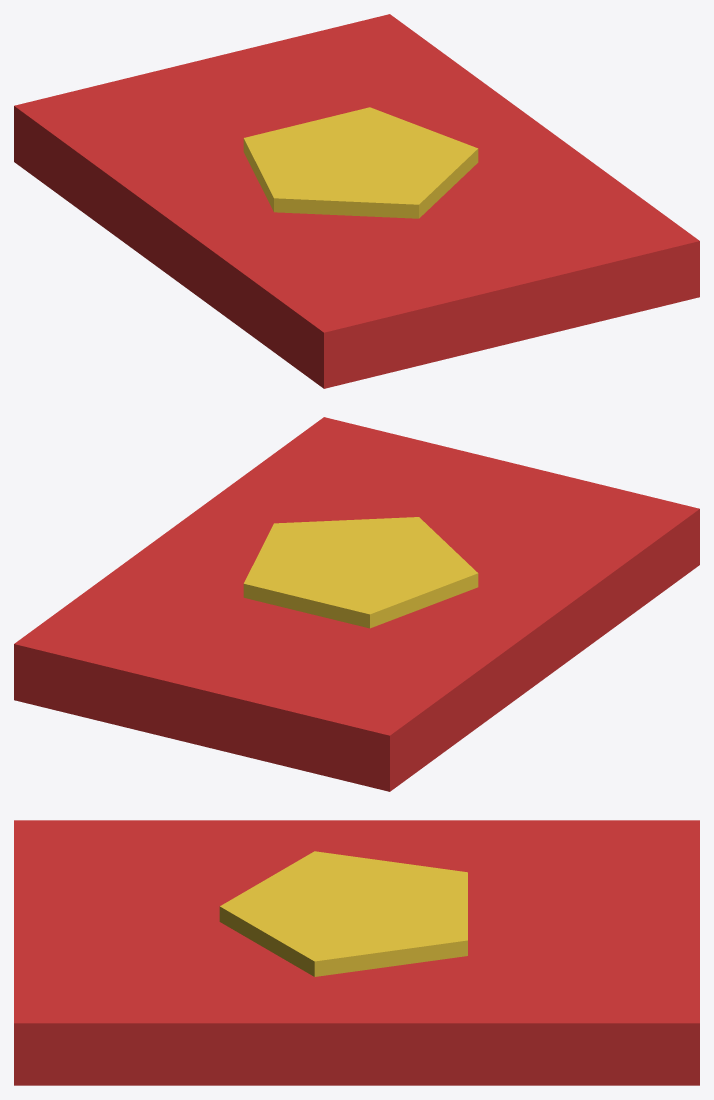
The model's file is sticker_pack.glb.
3 views of the same model, one above another, from view 1: azimuth 30°, elevation 25°; view 2: azimuth 150°, elevation 25°; view 3: azimuth 270°, elevation 25° (orthographic). The views are drawn at different scales.
Parts seen in each view (by area): view 1: pack_pack_red, star_pack_star; view 2: pack_pack_red, star_pack_star; view 3: pack_pack_red, star_pack_star.
Part boxes in pixels (box(x1,y1,x2,y2)): pack_pack_red: box(14, 14, 699, 388); star_pack_star: box(243, 107, 478, 218); pack_pack_red: box(14, 417, 699, 791); star_pack_star: box(243, 517, 478, 628); pack_pack_red: box(14, 820, 699, 1085); star_pack_star: box(219, 851, 467, 976).
Bounding box in the file's own units: 0.07 × 0.0125 × 0.1.
